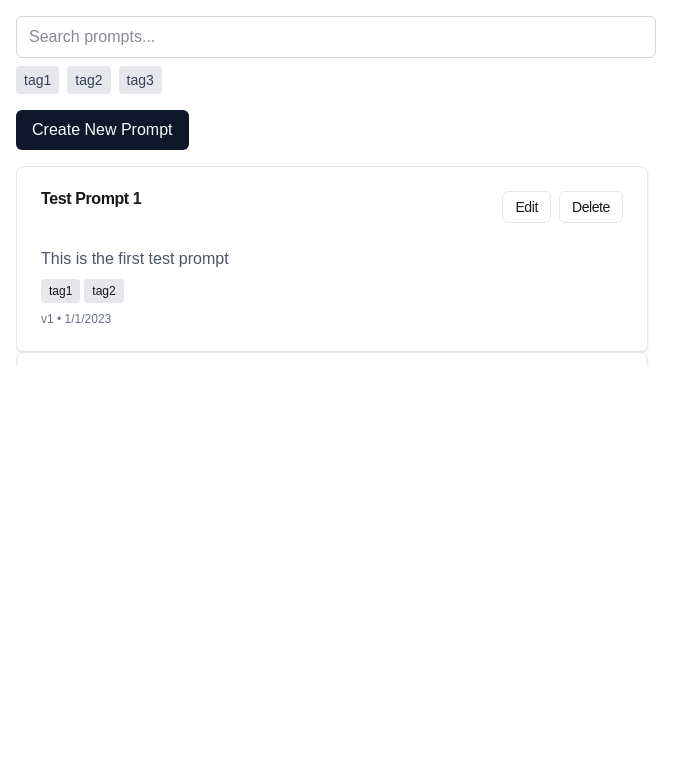
Test: PromptLibrary › starts editing a prompt
Click the button "Edit": (527, 207) [502,191,551,223]
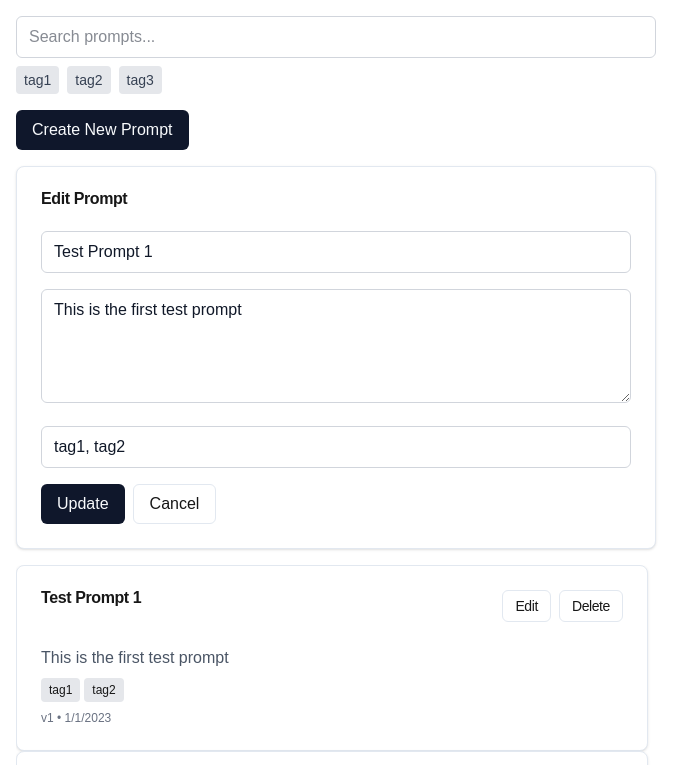
Check: the heading "Edit Prompt" is shown, box [41,190,127,207]
Check: the 1st field showing "Test Prompt 1" is shown, box [41,231,631,273]
Check: the text box showing "This is the first test prompt" is shown, box [41,289,631,403]
